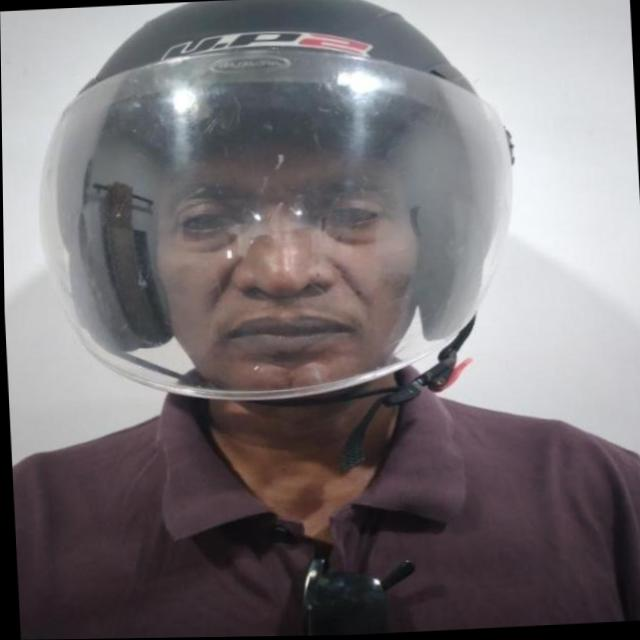helmet: (29, 0, 533, 490)
